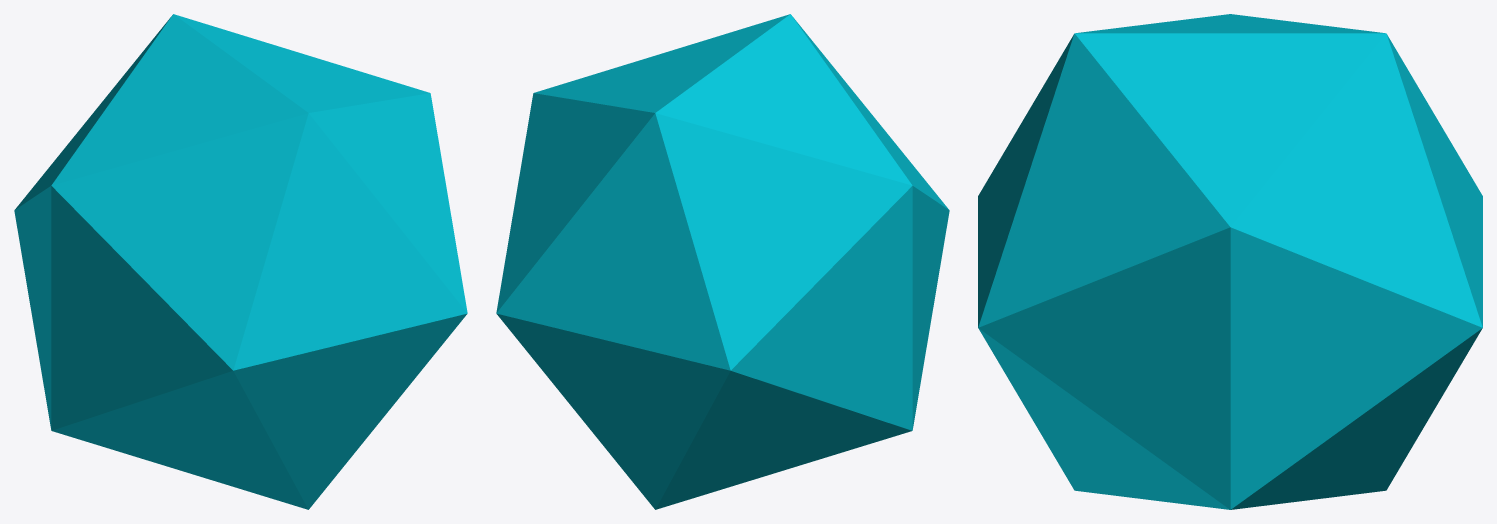
Rendered from 3d-platonic-icosahedron-20260125.glb.
The picture shows the model from 3 angles, left to right: view 1: azimuth 30°, elevation 25°; view 2: azimuth 150°, elevation 25°; view 3: azimuth 270°, elevation 25°; orthographic projection. The views are drawn at different scales.
Visible parts, largest first — view 1: Icosahedron; view 2: Icosahedron; view 3: Icosahedron.
Part boxes in pixels (bbox=[...]): Icosahedron: bbox=[14, 14, 467, 509]; Icosahedron: bbox=[496, 14, 949, 509]; Icosahedron: bbox=[978, 14, 1482, 509].
Size of the model in its own units: 1.7 by 1.7 by 1.7.
